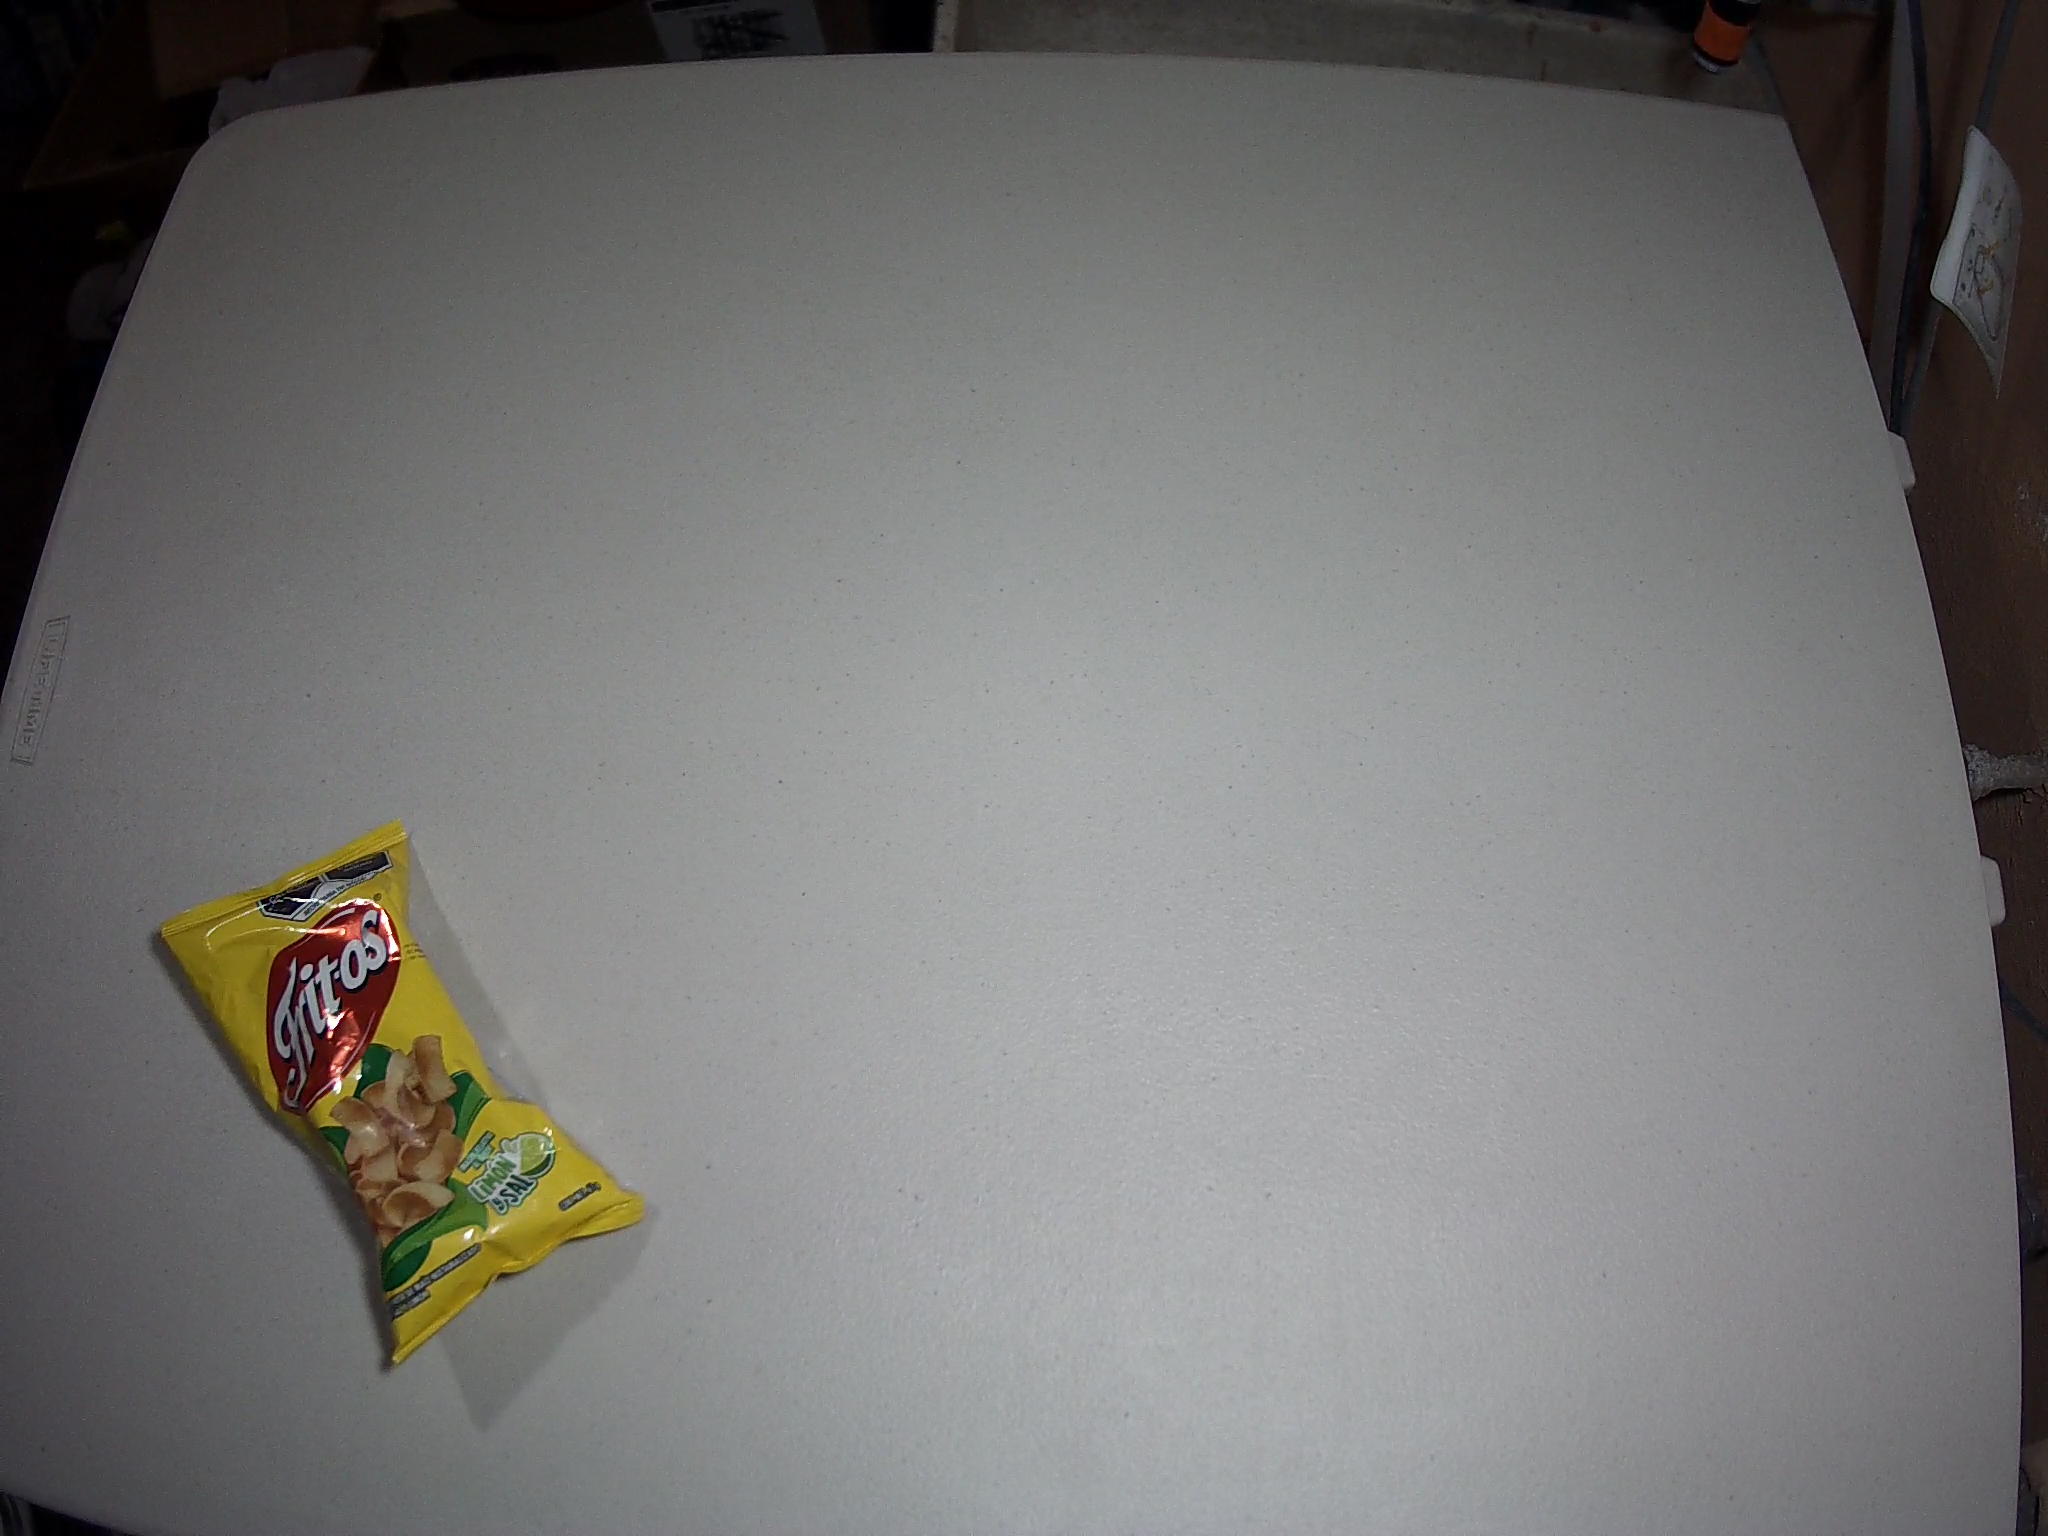FritosSalLimon_65_F: (156, 816, 647, 1365)
